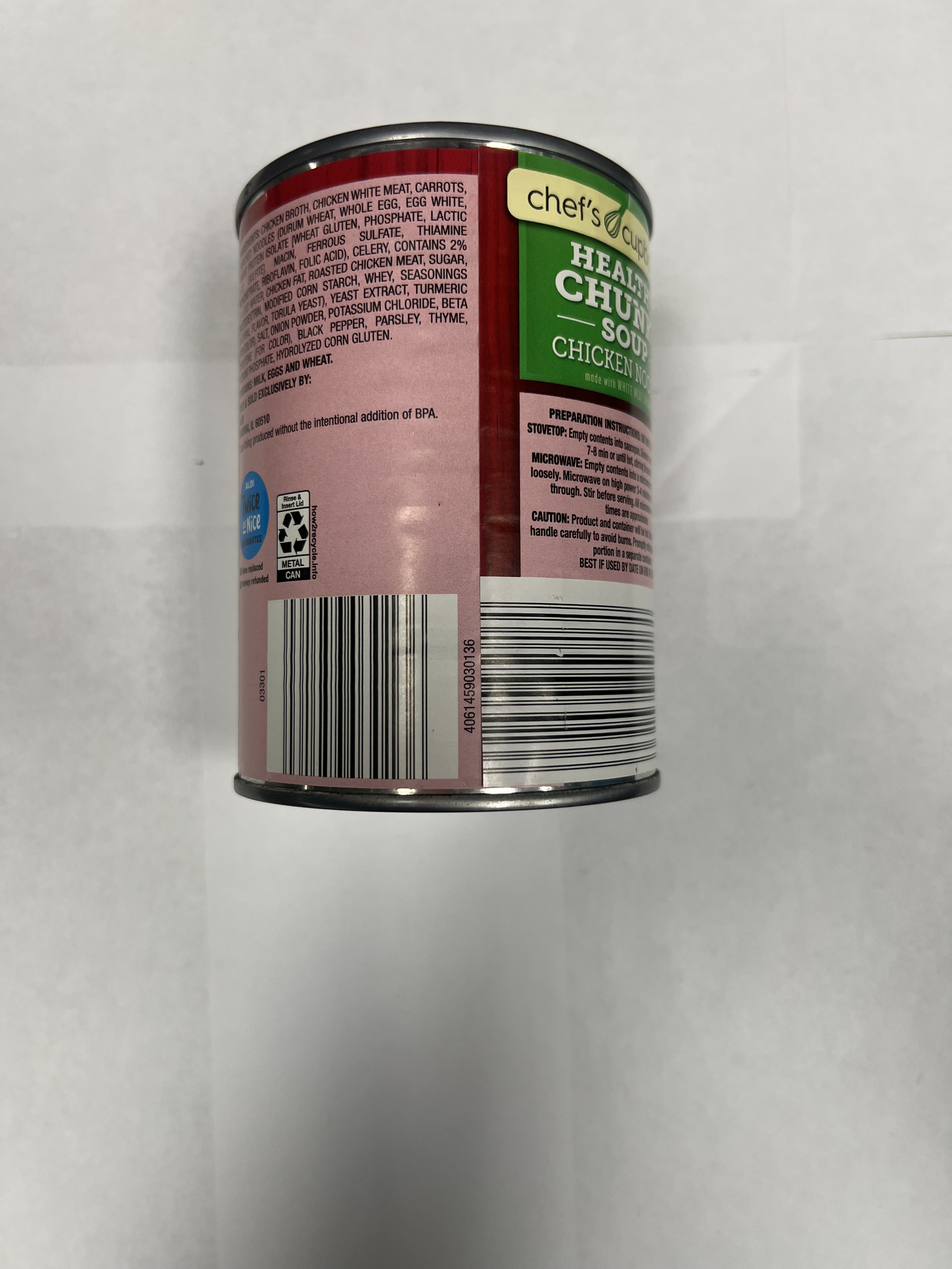packaged: (227, 116, 671, 821)
